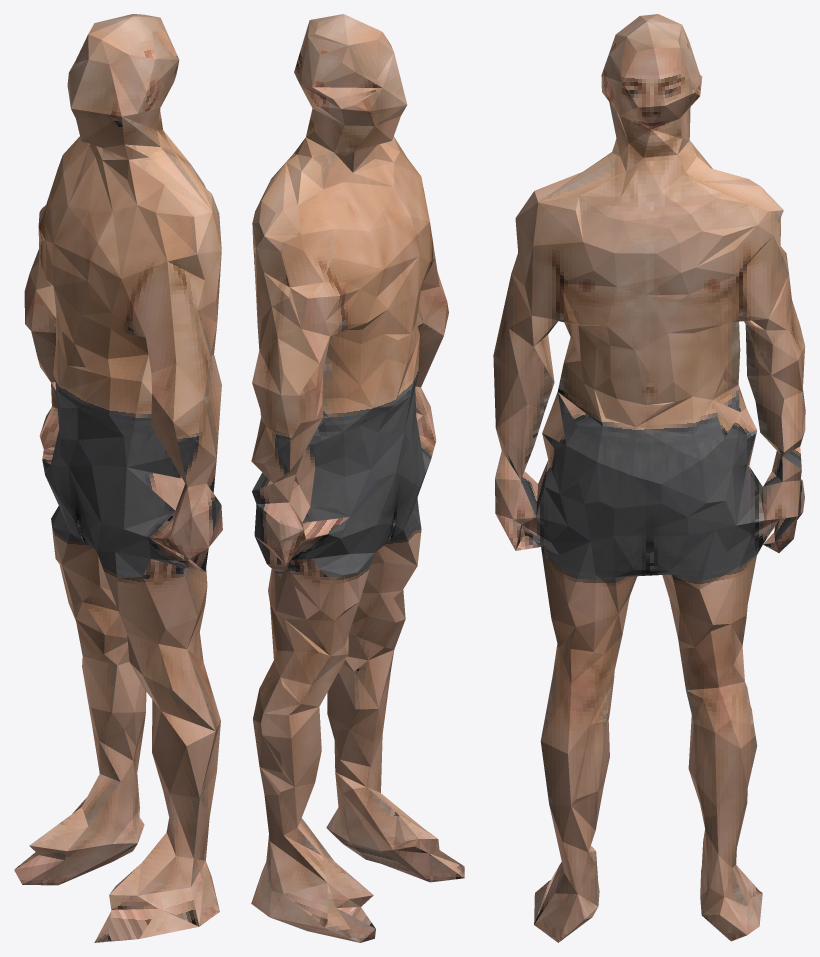
File: personaje.base.cuerpo_comun.glb
3 renders of one model, left to right at view 1: azimuth 30°, elevation 25°; view 2: azimuth 150°, elevation 25°; view 3: azimuth 270°, elevation 25°, orthographic. The views are drawn at different scales.
Visible parts, largest first — view 1: personaje.base.cuerpo_comun; view 2: personaje.base.cuerpo_comun; view 3: personaje.base.cuerpo_comun.
Boxes of the visible parts, bbox=[...] form: personaje.base.cuerpo_comun: bbox=[14, 14, 222, 942]; personaje.base.cuerpo_comun: bbox=[251, 14, 464, 942]; personaje.base.cuerpo_comun: bbox=[493, 14, 805, 942].
Bounding box in the file's own units: 0.2873 × 1.7 × 0.5298.
Materials: 1 (1 with a texture image).
